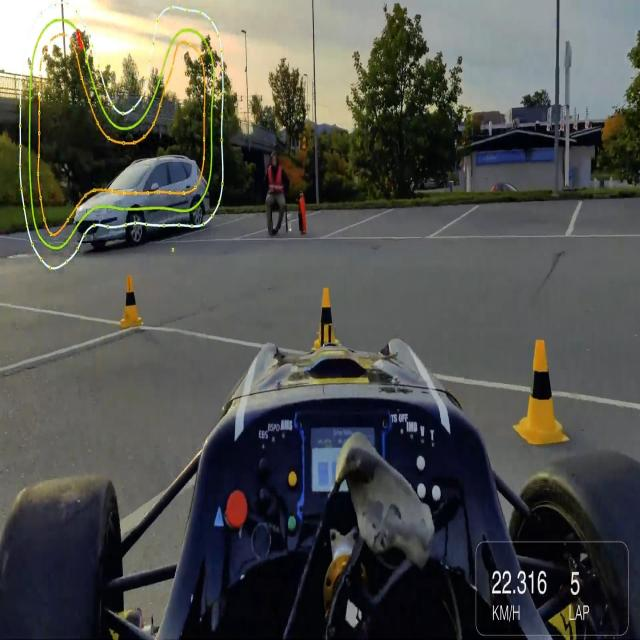yellow_cone: (525, 343, 565, 452), (312, 282, 346, 350), (115, 272, 145, 330)
